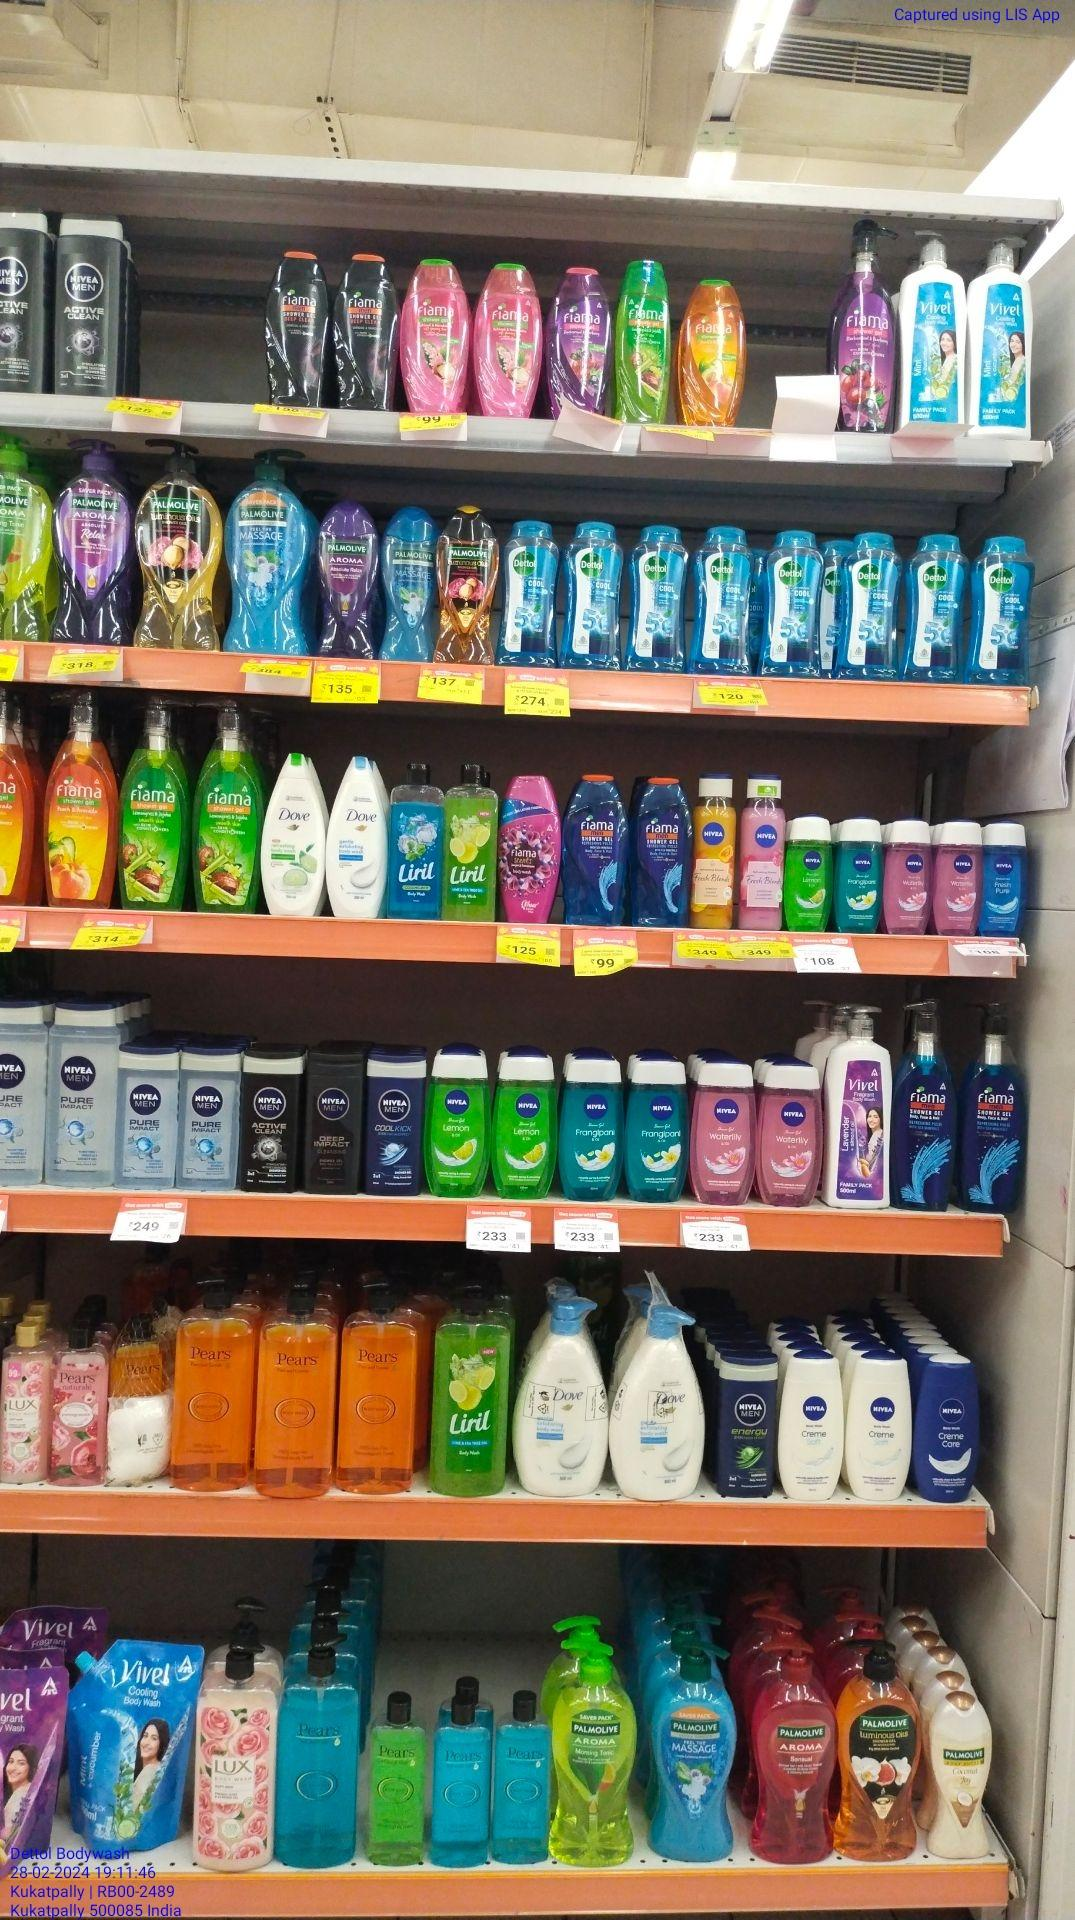Dettol_Bodywash_Cool: (968, 537, 1039, 683), (691, 525, 753, 676), (840, 530, 902, 678), (563, 520, 624, 665), (764, 530, 824, 674), (627, 525, 687, 669), (911, 533, 967, 678), (505, 520, 558, 663)
Dove_Gentle_Exfoliating_Body_Wash_250ML: (324, 754, 386, 915)
Dove_Refreshing_Body_Wash_250ML: (262, 752, 323, 914)
Liril_Cooling_Mint_Body_Wash_250ML: (388, 758, 441, 922)
Liril_Lime_and_Tea_Tree_Oil_Body_Wash_250ML: (433, 1286, 512, 1495), (447, 758, 495, 922)
Nivea_Shower_Gel_Frangipani_and_Oil_250ML: (627, 1055, 691, 1201), (561, 1052, 624, 1200), (835, 820, 884, 935)
Nivea_Shower_Gel_Lemon_and_Oil_250ML: (429, 1044, 488, 1197), (495, 1046, 554, 1197), (787, 816, 835, 932)
Nivea_Shower_Gel_Waterlily_and_Oil_250ML: (758, 1058, 824, 1200), (692, 1060, 756, 1203), (934, 819, 984, 935), (884, 819, 934, 935)
Palmolive_Aroma_Moments_Feel_The_Massage_Shower_Gel_250ML: (384, 501, 431, 658)
Palmolive_Aroma_Relax_250ML: (314, 508, 373, 661)
Palmolive_Coconut_Joy_Exfoliating_Body_Wash_250ML: (931, 1696, 995, 1865)
Palmolive_Luminous_Oils_Invigorating_Macadamia_Oil_With_Peony_250ML: (437, 508, 499, 665)
Pears_Pure_Glycerin_and_Mint_Extracts_Body_Wash_250ML: (430, 1698, 492, 1871), (495, 1693, 551, 1865)
